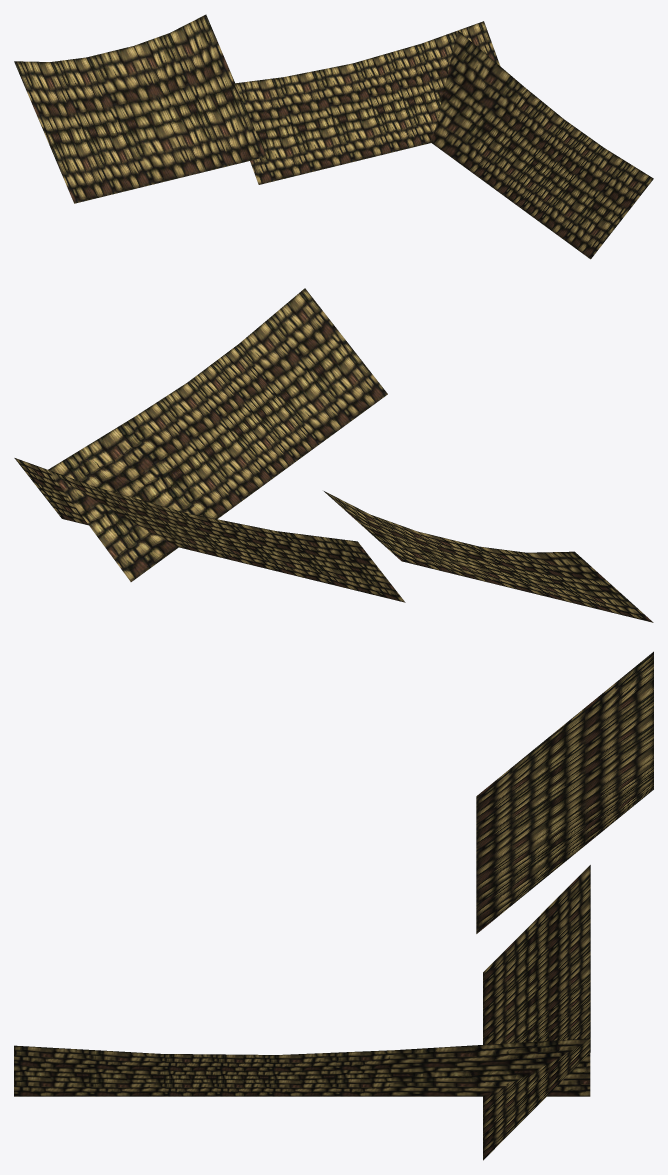
The model's file is LAKETOWN_EXTERIOR_PS_LT_PLANE2182.fbx.
The picture shows the model from 3 angles, top to bottom: view 1: azimuth 30°, elevation 25°; view 2: azimuth 150°, elevation 25°; view 3: azimuth 270°, elevation 25°; orthographic projection. The views are drawn at different scales.
Parts seen in each view (by area): view 1: LAKETOWN_EXTERIOR_PS_LT_PLANE2182; view 2: LAKETOWN_EXTERIOR_PS_LT_PLANE2182; view 3: LAKETOWN_EXTERIOR_PS_LT_PLANE2182.
Part boxes in pixels (x1=…): LAKETOWN_EXTERIOR_PS_LT_PLANE2182: x1=14, y1=14, x2=653, y2=259; LAKETOWN_EXTERIOR_PS_LT_PLANE2182: x1=14, y1=288, x2=653, y2=622; LAKETOWN_EXTERIOR_PS_LT_PLANE2182: x1=14, y1=651, x2=653, y2=1160.
Bounding box in the file's own units: 152647 × 41276 × 128112.
1 material, 1 textured.
